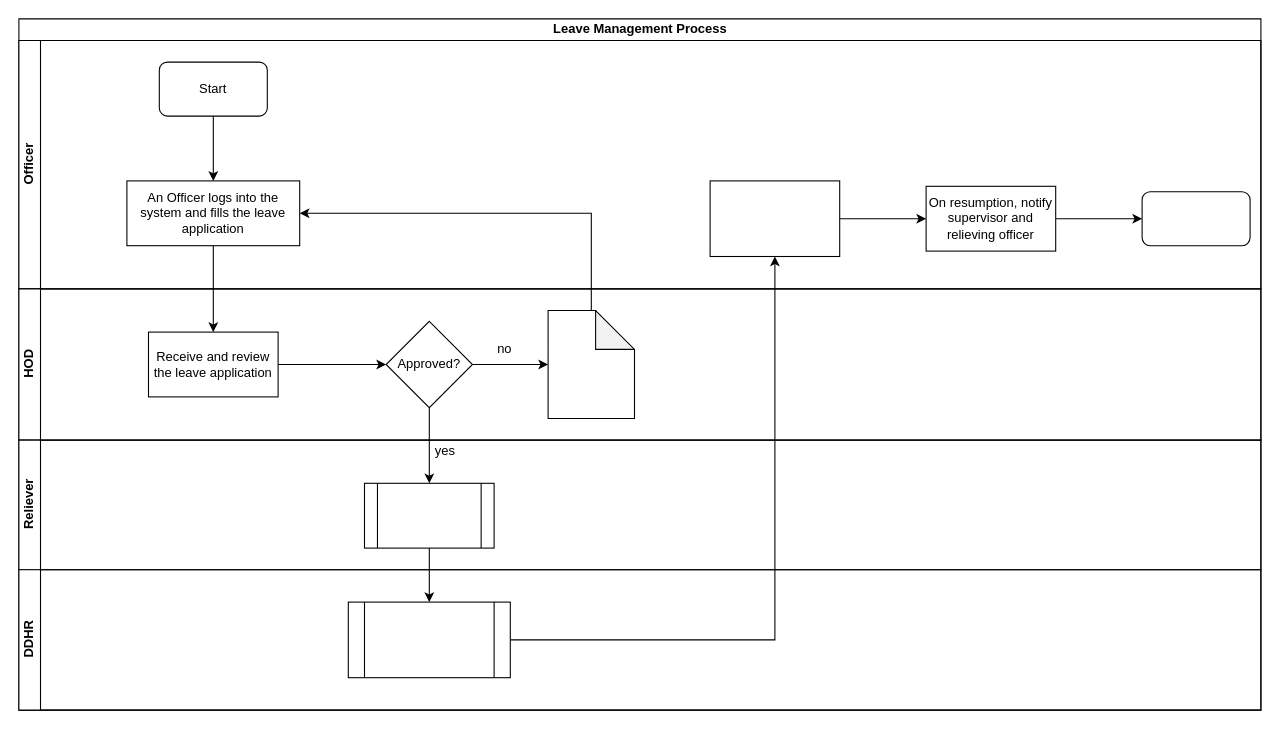
This 1280x729 diagram has some shape labels left out. Each missing label, with the centre of its shape:
"End" belongs at [1195,218].
"HoD comments" belongs at [590,363].
"Officer is notified of approval and proceeds on leave on the set date" belongs at [774,218].
"Receive notification about the leave and for processing of applicable dues" belongs at [428,639].
"Receive notification to cover for officer on leave" belongs at [428,515].
